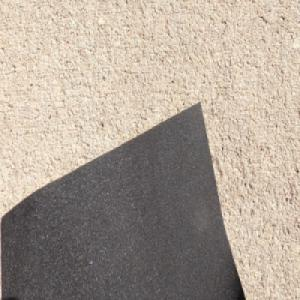PaintChip: (3, 96, 246, 300)
